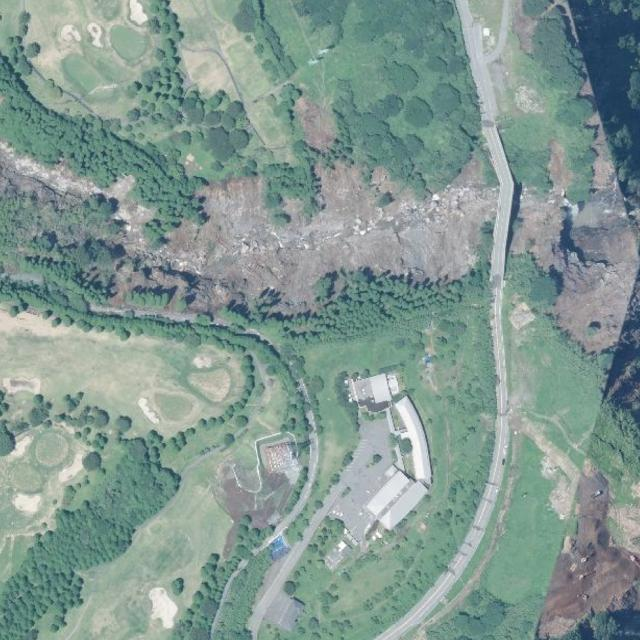landslide: (115, 160, 497, 315), (511, 110, 639, 352), (538, 472, 640, 640), (0, 142, 119, 205)
